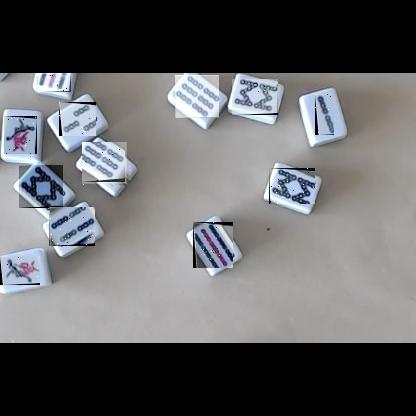1s: (4, 116, 37, 154), (0, 256, 40, 285)
2s: (315, 94, 334, 135)
3s: (59, 102, 96, 136)
4s: (49, 207, 95, 246)
6s: (83, 143, 130, 187), (175, 75, 219, 118)
8s: (19, 165, 63, 208), (232, 79, 278, 115), (269, 168, 315, 204)
9s: (193, 222, 233, 268), (38, 73, 71, 92)
